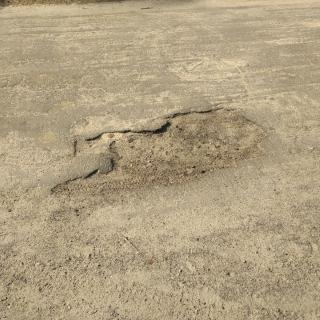pothole: (40, 109, 268, 202)
